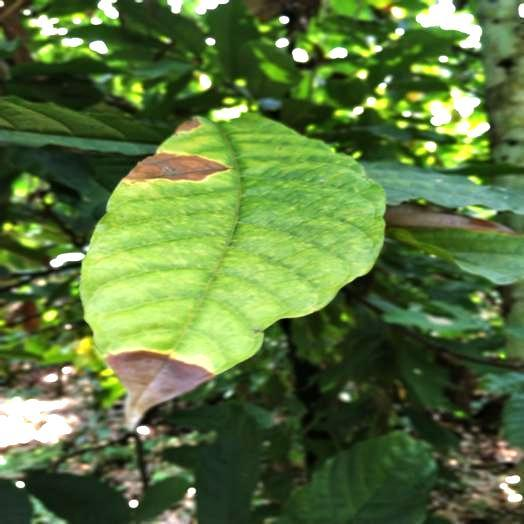Potassium: (81, 114, 384, 424)
